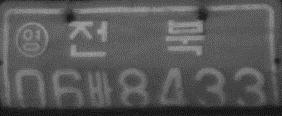0: (14, 68, 47, 112)
3: (193, 66, 226, 108), (233, 65, 265, 108)
4: (159, 68, 188, 108)
6: (52, 68, 85, 112)
8: (118, 67, 150, 109)
바: (87, 71, 114, 108)
영: (14, 21, 49, 58)
전북_D: (66, 19, 206, 58)
